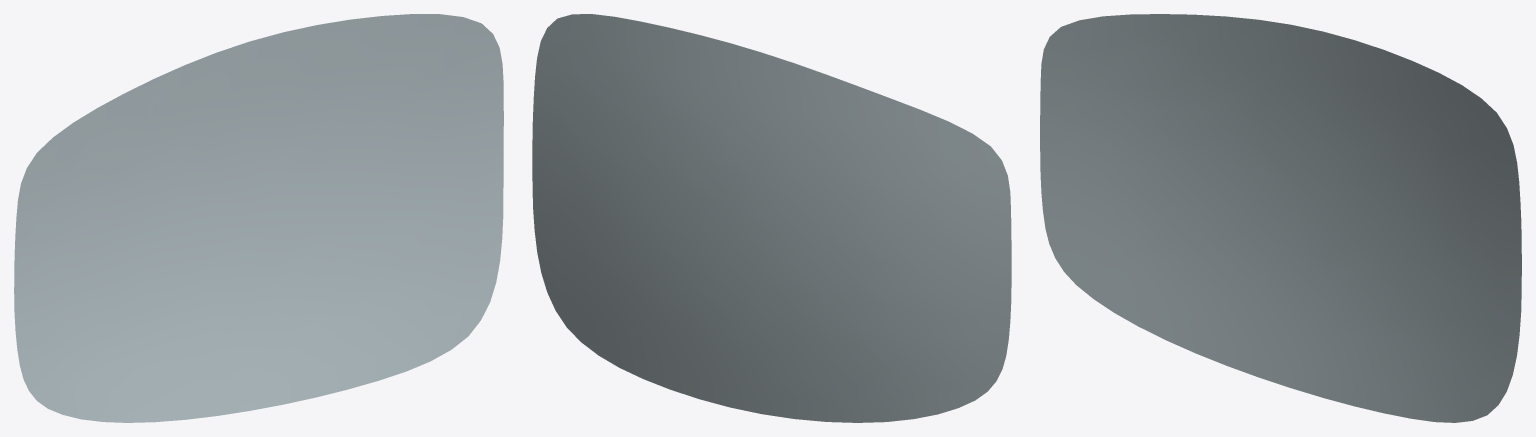
Rendered from lens_left_far.glb.
3 views of the same model, side by side, from view 1: azimuth 30°, elevation 25°; view 2: azimuth 150°, elevation 25°; view 3: azimuth 330°, elevation 25° (orthographic). The views are drawn at different scales.
Visible parts, largest first — view 1: Lens.L.Far; view 2: Lens.L.Far; view 3: Lens.L.Far.
Part boxes in pixels (bbox=[...]): Lens.L.Far: bbox=[14, 14, 503, 422]; Lens.L.Far: bbox=[532, 14, 1011, 422]; Lens.L.Far: bbox=[1040, 14, 1521, 422].
Bounding box in the file's own units: 4.23 × 3.08 × 0.2663.
